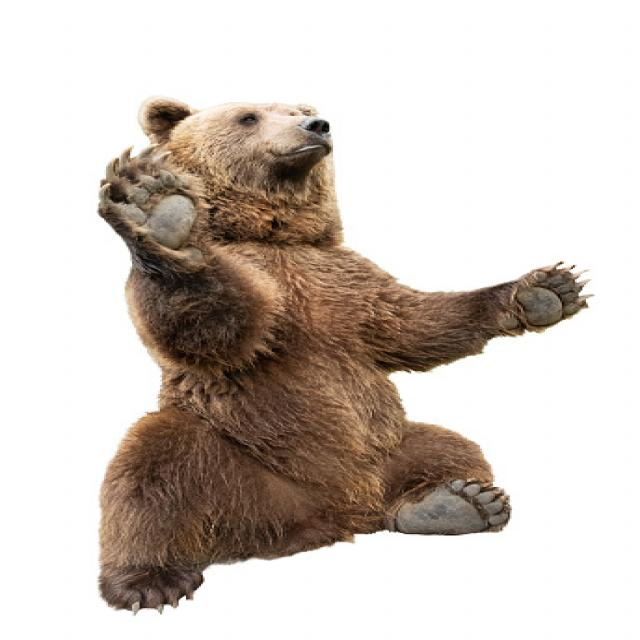Bear: (95, 96, 593, 616)
